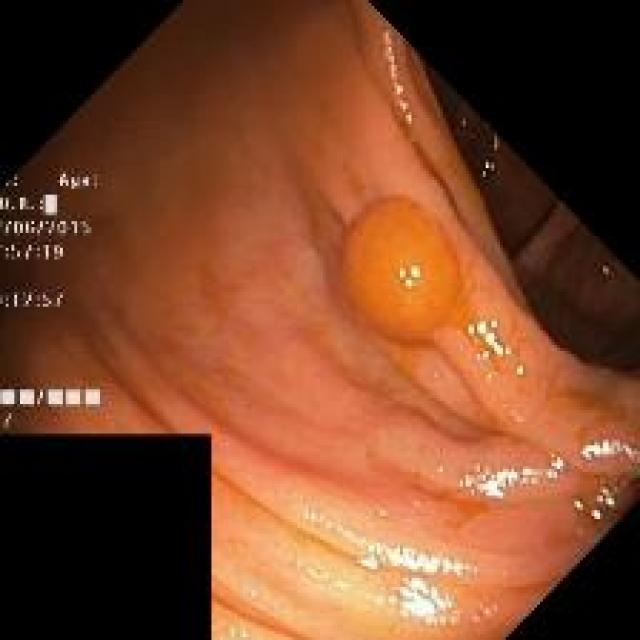Polyps: (344, 197, 470, 339)
